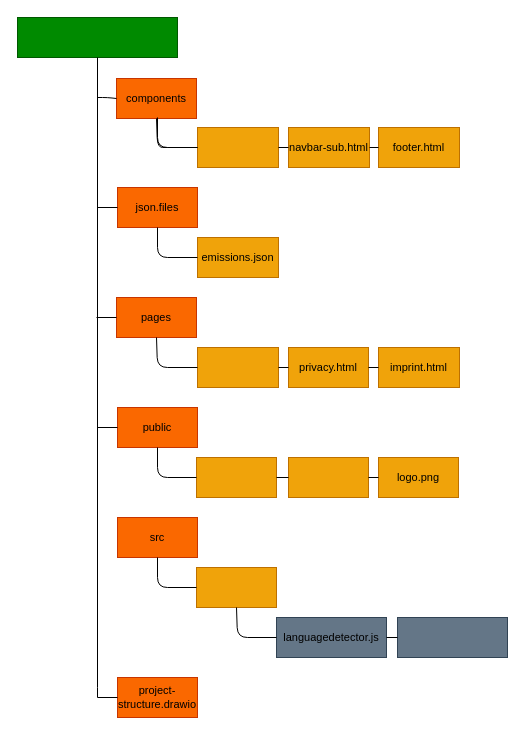
Image size: 525x735. Some labels were removed from this diagram. Each missing label, with the centre of its shape:
aboutus.html: the point at 237,367
index.html: the point at 236,477
IPWA01-01_FALLSTUDIE: the point at 97,37
main.js: the point at 236,587
navbar-main.html: the point at 237,147
styles.css: the point at 328,477
utils.js: the point at 452,637
